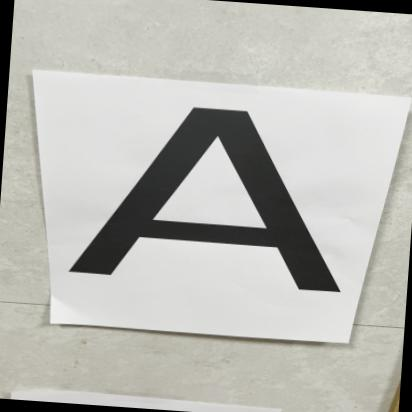seat: (66, 88, 361, 330)
